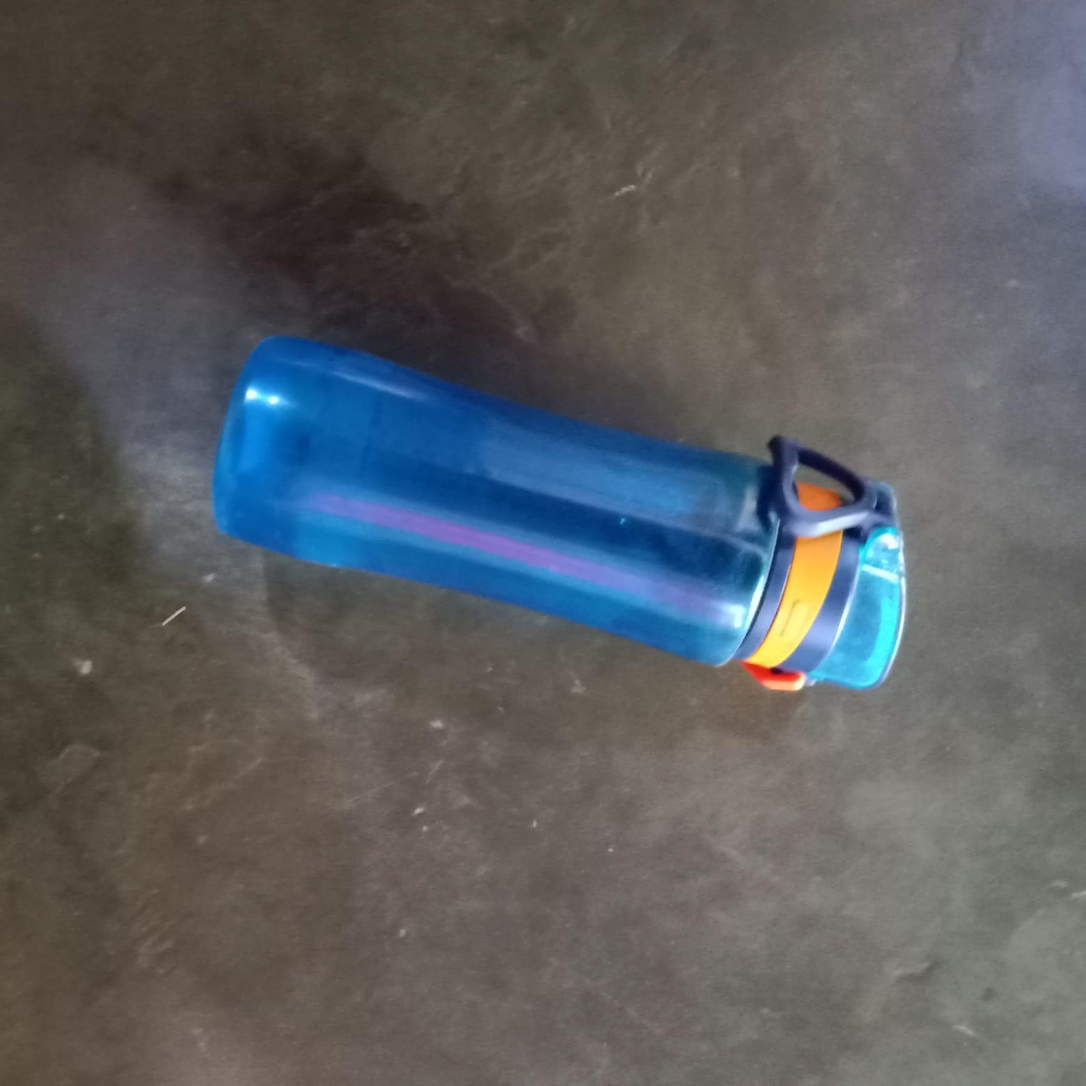Plastik: (210, 334, 908, 699)
